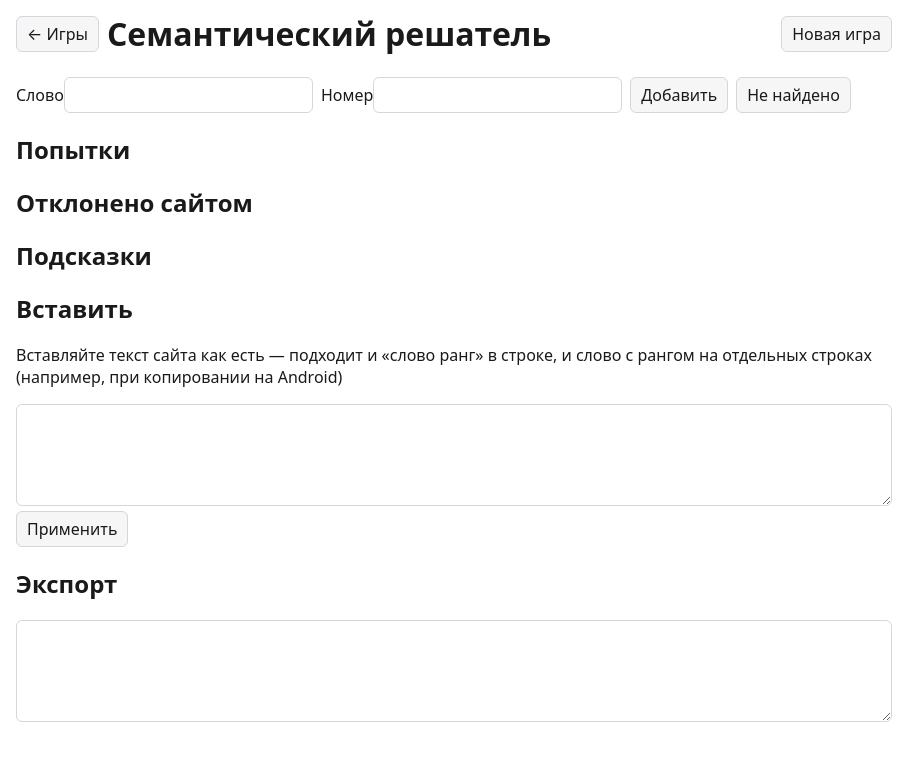
Test: SemanticScreen › records a rejected word
The width and height of the screenshot is (909, 779).
Step 1. Type "смартфон" into the field labelled "Слово" → (188, 95), box x1=64 y1=77 x2=313 y2=113
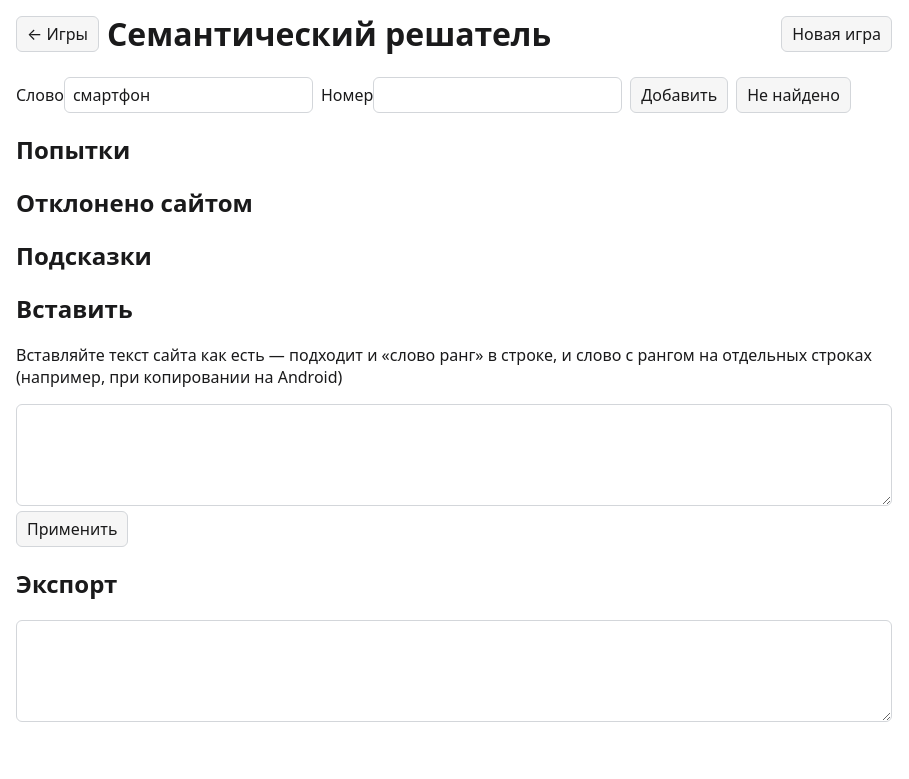
Step 2. Click the button "Не найдено" → (794, 95), box x1=736 y1=77 x2=851 y2=113
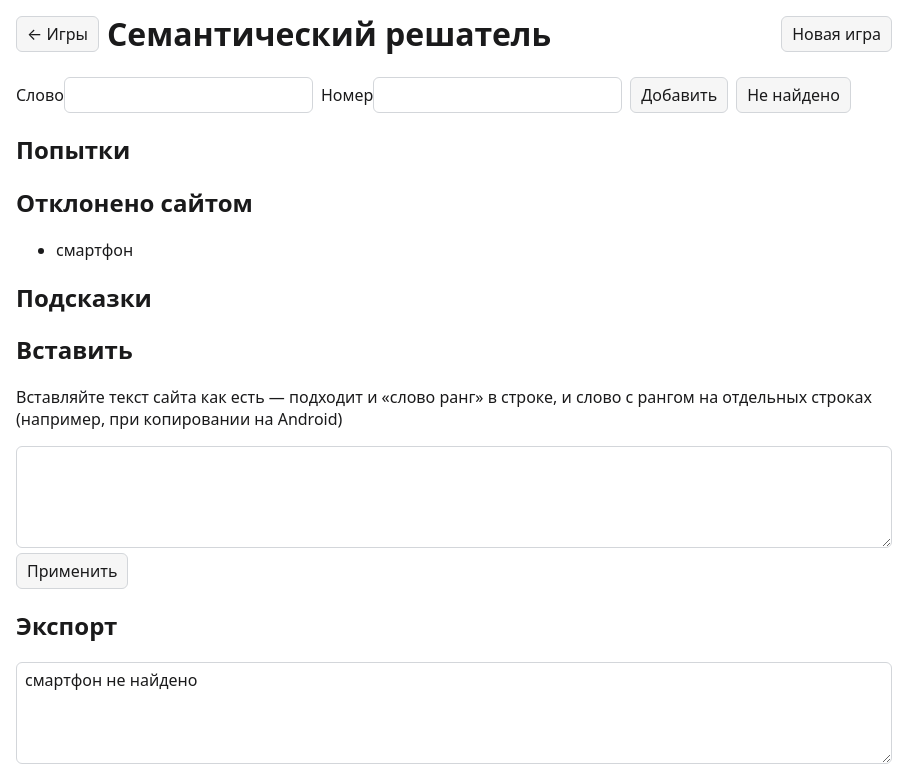
Result: the list with test id "rejected-list" reads "смартфон" at x1=56 y1=239 x2=133 y2=261
